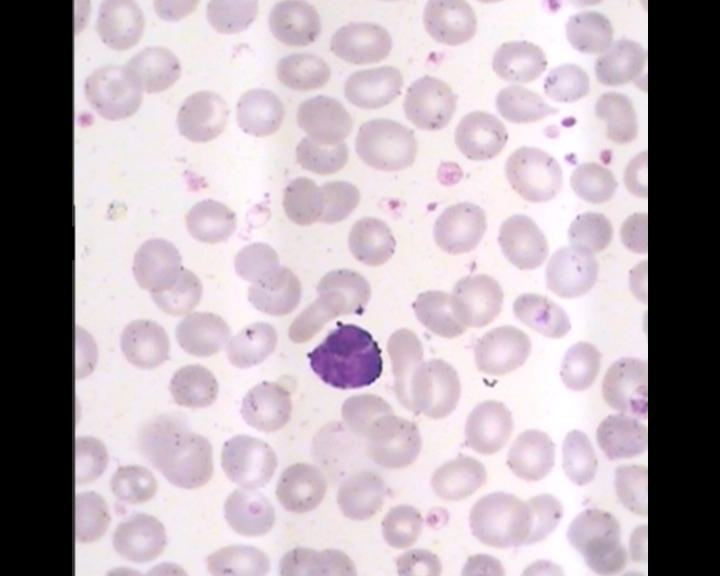baso: (303, 319, 388, 392)
